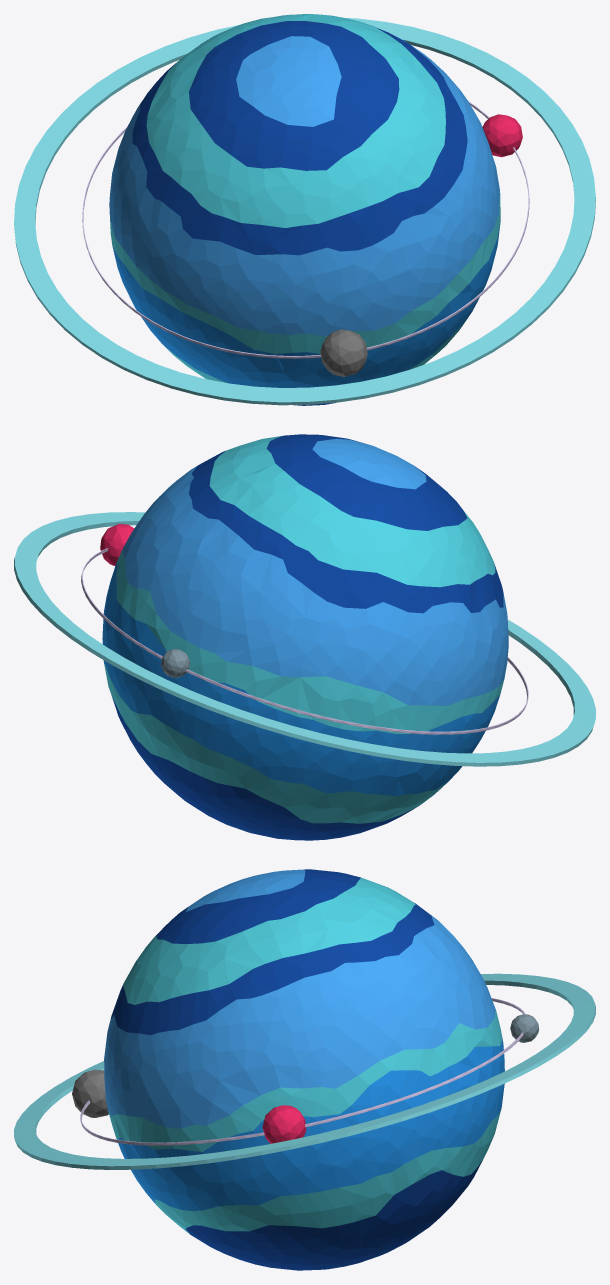
File: Planet_24.glb
3 renders of one model, top to bottom at view 1: azimuth 30°, elevation 25°; view 2: azimuth 150°, elevation 25°; view 3: azimuth 270°, elevation 25°, orthographic. The views are drawn at different scales.
Visible parts, largest first — view 1: Planet_24; view 2: Planet_24; view 3: Planet_24.
Boxes of the visible parts, <box> form: Planet_24: <box>14,14,595,405</box>; Planet_24: <box>14,434,595,840</box>; Planet_24: <box>14,869,595,1270</box>.
Bounding box in the file's own units: 29.24 × 19.99 × 29.01.
1 material, 1 textured.
